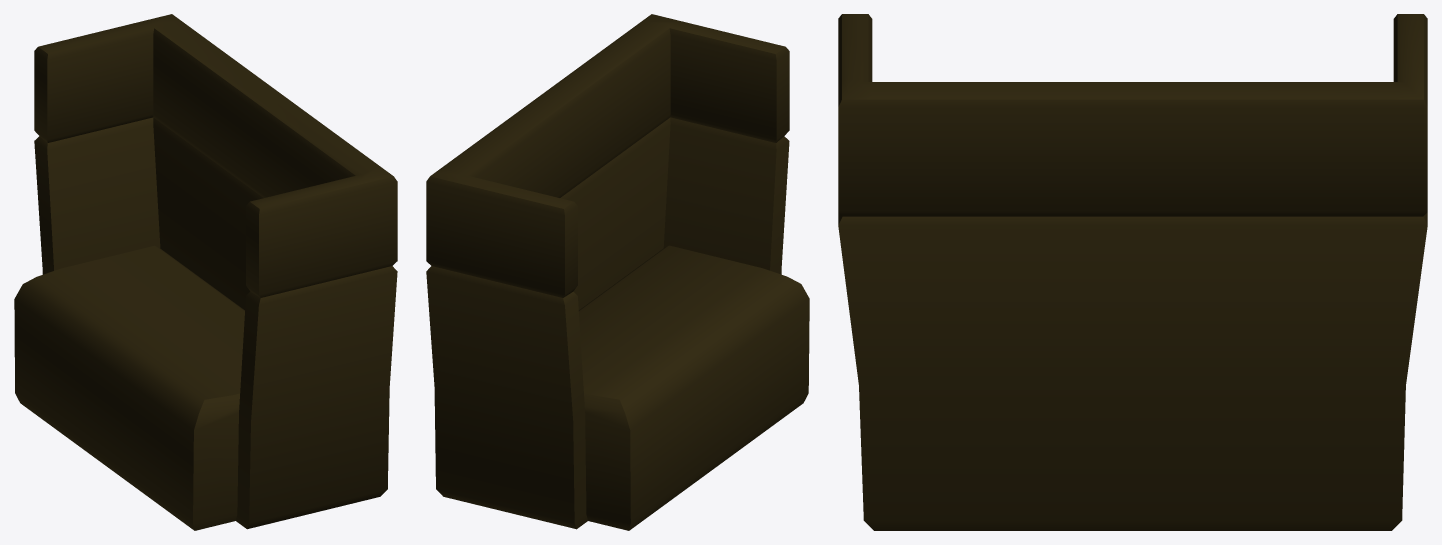
Rendered from Couch.fbx.
The picture shows the model from 3 angles, left to right: view 1: azimuth 30°, elevation 25°; view 2: azimuth 150°, elevation 25°; view 3: azimuth 270°, elevation 25°; orthographic projection. The views are drawn at different scales.
Visible parts, largest first — view 1: Couch; view 2: Couch; view 3: Couch.
Boxes of the visible parts, x1,y1,x2,y2 form: Couch: (14, 14, 397, 530); Couch: (426, 14, 809, 530); Couch: (838, 14, 1427, 530).
Bounding box in the file's own units: 43.68 × 76.2 × 93.76.
